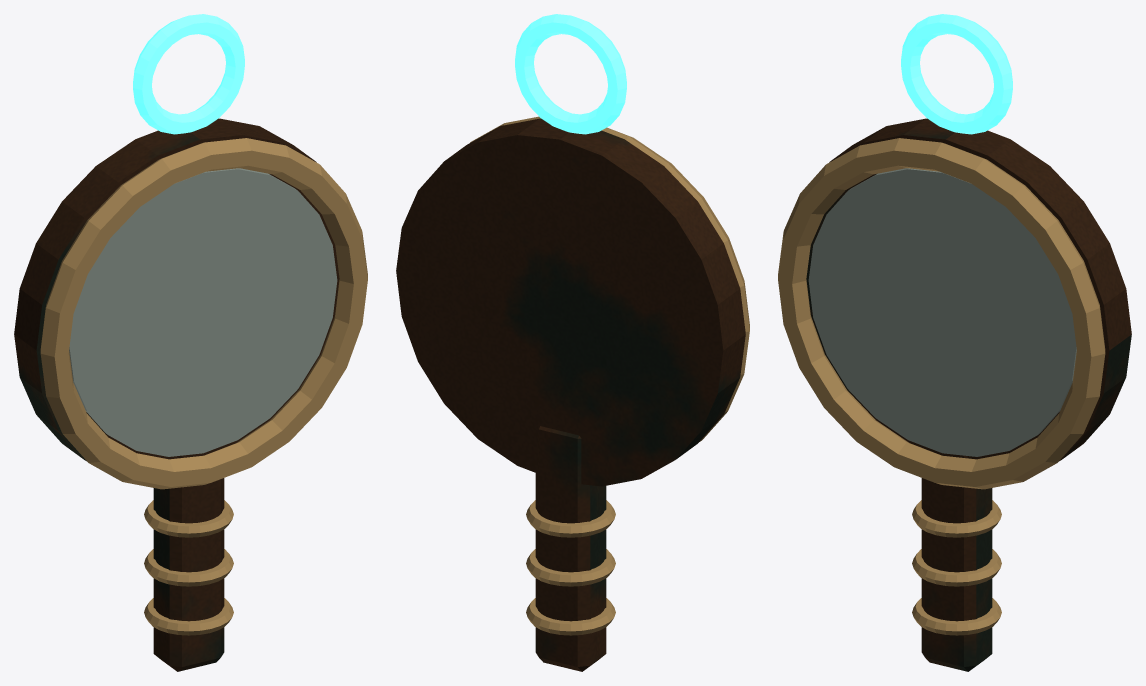
File: hand_mirror.fbx
The picture shows the model from 3 angles, left to right: view 1: azimuth 30°, elevation 25°; view 2: azimuth 150°, elevation 25°; view 3: azimuth 330°, elevation 25°; orthographic projection.
Parts seen in each view (by area): view 1: hand_mirror_Body.011, hand_mirror_Grip.011; view 2: hand_mirror_Body.011, hand_mirror_Grip.011; view 3: hand_mirror_Body.011, hand_mirror_Grip.011.
Boxes of the visible parts, box(x1,y1,x2,y2) form: hand_mirror_Body.011: box(14, 118, 367, 671); hand_mirror_Grip.011: box(133, 14, 244, 134); hand_mirror_Body.011: box(396, 116, 749, 671); hand_mirror_Grip.011: box(515, 14, 626, 134); hand_mirror_Body.011: box(778, 118, 1131, 671); hand_mirror_Grip.011: box(901, 14, 1012, 134).
Bounding box in the file's own units: 0.21 × 0.396 × 0.05.
4 materials, 1 textured.
